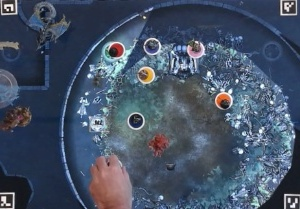blue: (127, 111, 148, 129)
orange: (212, 91, 235, 110)
pink: (186, 38, 206, 58)
red: (108, 40, 127, 58)
violet: (144, 35, 165, 56)
yellow: (137, 63, 157, 84)
